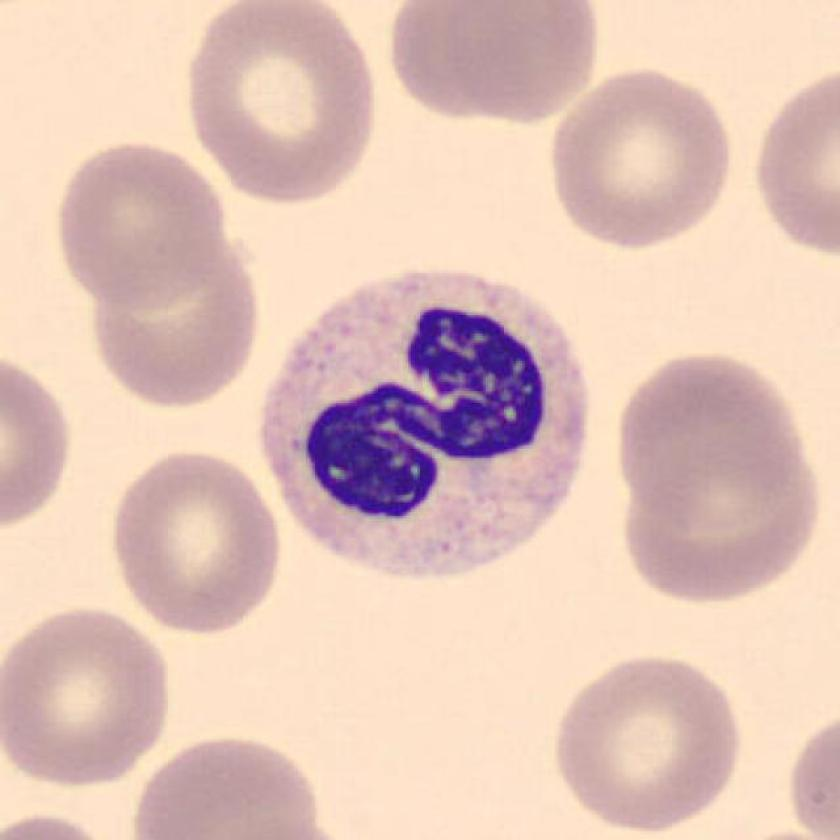neutrophil: (265, 269, 584, 577)
